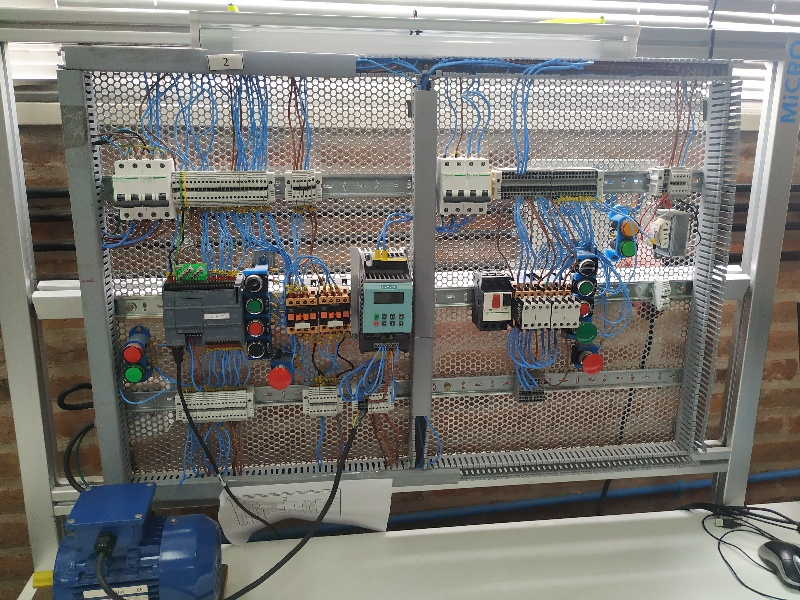Tablero 2: (77, 63, 734, 477)
